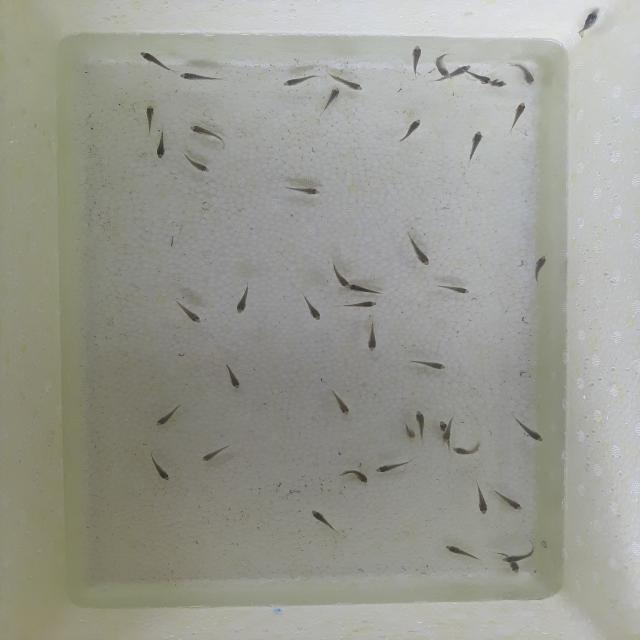fingerling: (323, 382, 352, 418), (408, 231, 434, 270), (336, 462, 374, 484), (149, 406, 187, 427), (197, 441, 233, 463), (151, 453, 173, 485), (503, 545, 538, 564), (178, 71, 222, 86), (280, 73, 320, 89), (132, 47, 162, 68), (184, 154, 214, 175), (474, 484, 491, 521), (515, 421, 544, 442), (534, 252, 552, 285), (329, 263, 351, 289), (186, 124, 226, 138), (511, 99, 528, 131), (498, 494, 525, 514), (178, 305, 206, 324), (152, 130, 168, 161), (514, 63, 537, 84), (322, 88, 343, 111), (308, 508, 334, 526), (410, 360, 449, 372), (402, 119, 422, 142), (229, 293, 247, 318), (304, 301, 325, 322), (432, 60, 454, 80), (346, 283, 383, 294), (408, 44, 421, 75), (338, 77, 363, 93), (466, 72, 492, 87), (443, 545, 475, 557), (142, 104, 155, 133), (368, 323, 380, 354), (471, 128, 485, 154), (285, 186, 324, 195), (448, 447, 482, 457), (341, 301, 377, 310), (226, 370, 241, 390), (375, 463, 408, 472), (437, 286, 470, 294), (415, 414, 426, 434), (454, 65, 472, 77), (406, 427, 419, 442), (443, 422, 452, 443), (508, 562, 522, 575)
